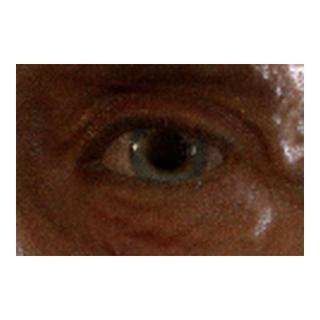pupil: (150, 133, 186, 169)
